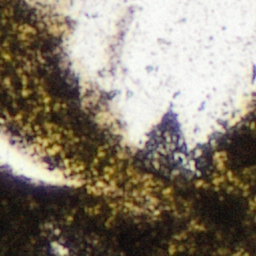cement_matrix: (0, 0, 255, 255), (92, 182, 111, 191)
gravel_crushed_stones: (25, 0, 255, 169), (0, 124, 82, 186), (93, 183, 110, 190), (55, 245, 65, 255)
